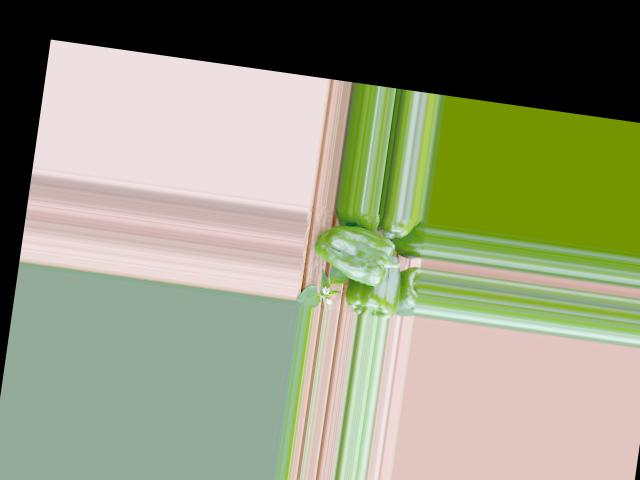bell_pepper: (383, 214, 423, 245)
